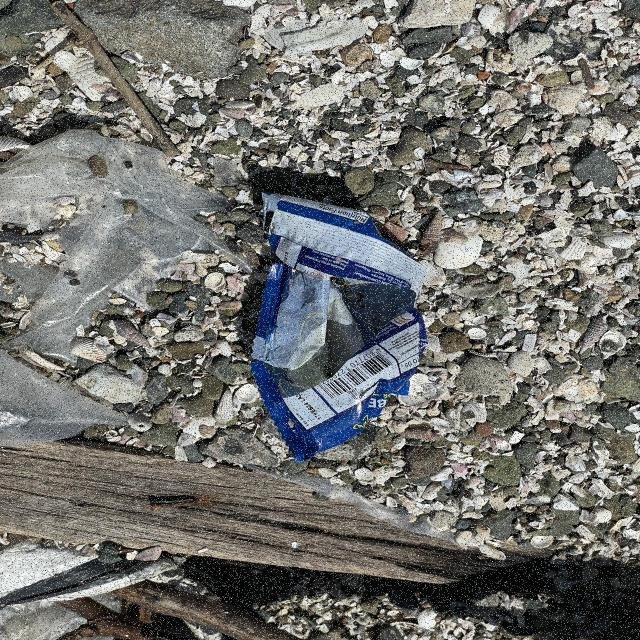plastic_waste: (252, 194, 430, 464)
